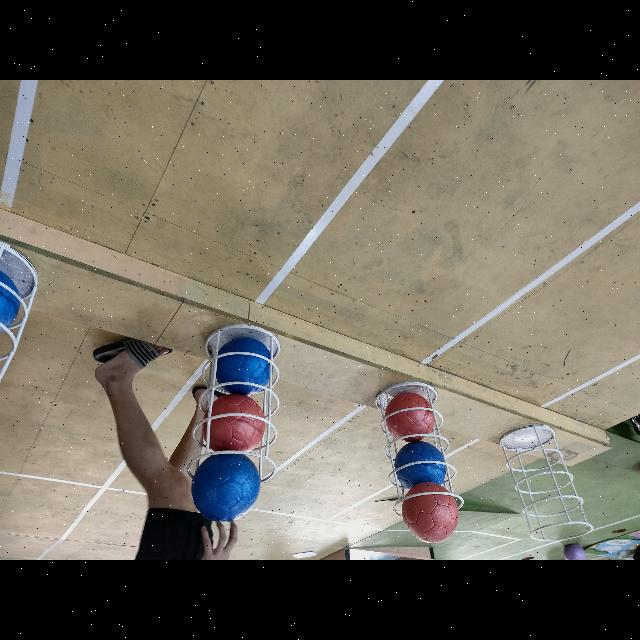B: (192, 451, 260, 522), (214, 337, 272, 395), (394, 442, 446, 492), (0, 268, 20, 336)
R: (204, 394, 266, 456), (402, 482, 460, 542), (384, 392, 434, 444)
